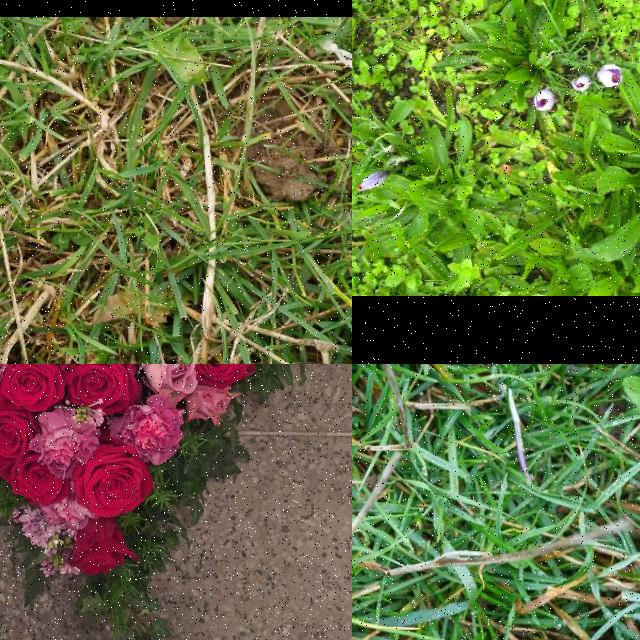flower: (598, 63, 622, 87), (534, 90, 556, 110), (572, 76, 590, 92)
